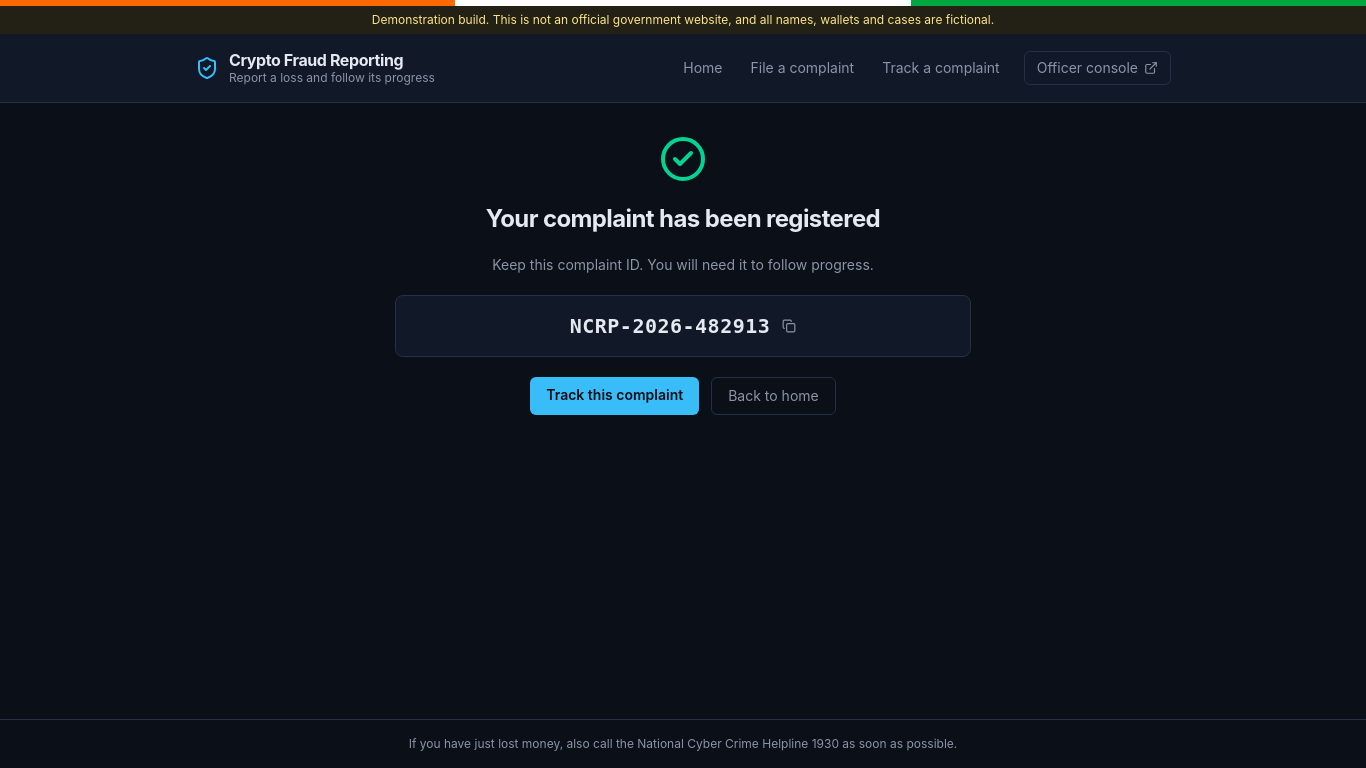
Scenario: looking up by typing › goes from the confirmation page straight to the status
The image size is (1366, 768).
Click the link "Track this complaint" at x=615, y=396, box [530,377,699,415]
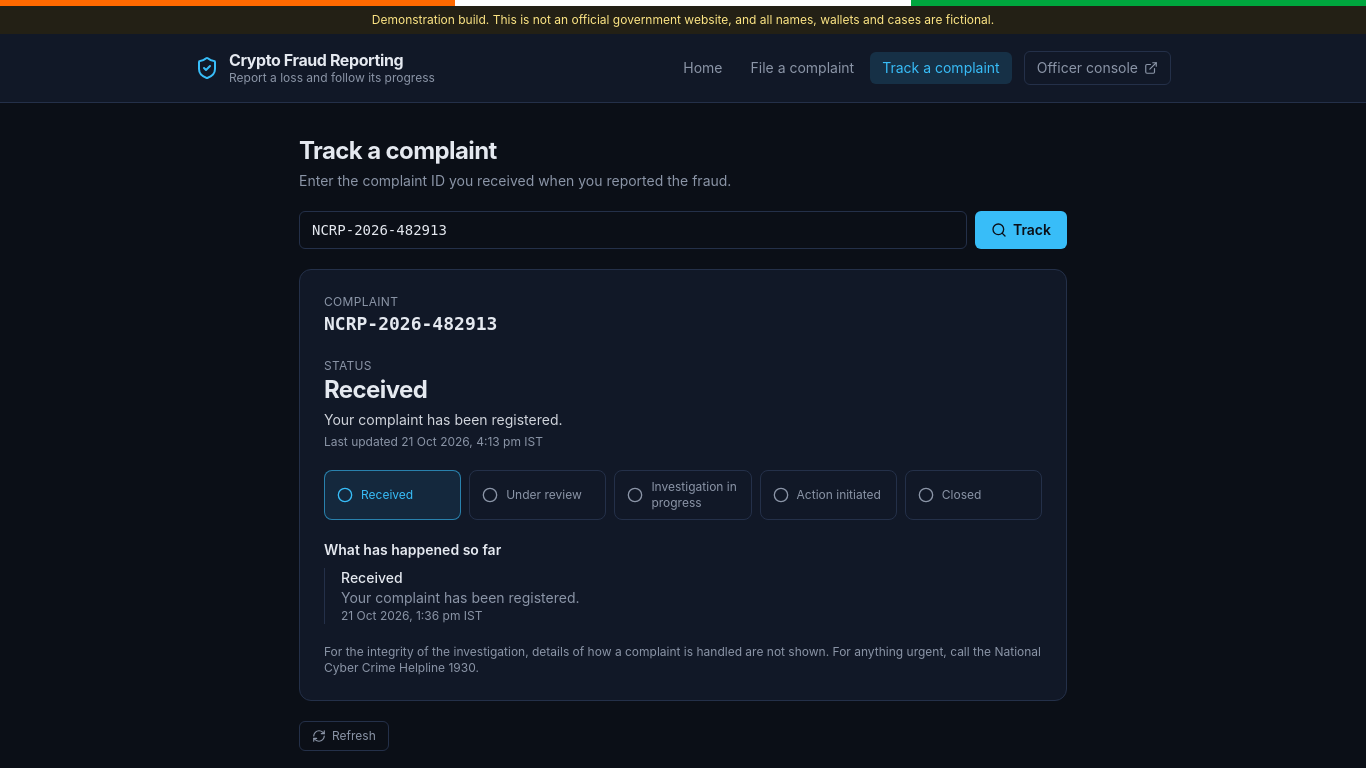
Check: the heading "Received" is shown, box [324,375,427,404]
